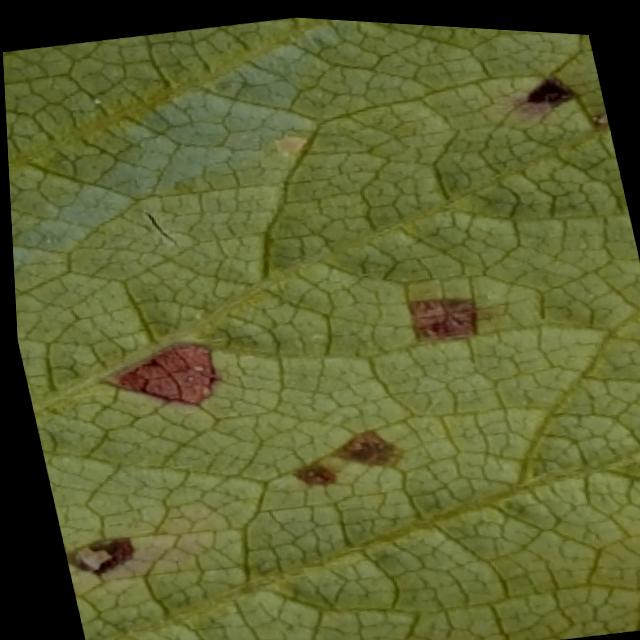Angular Leafspot: (55, 25, 621, 640)
